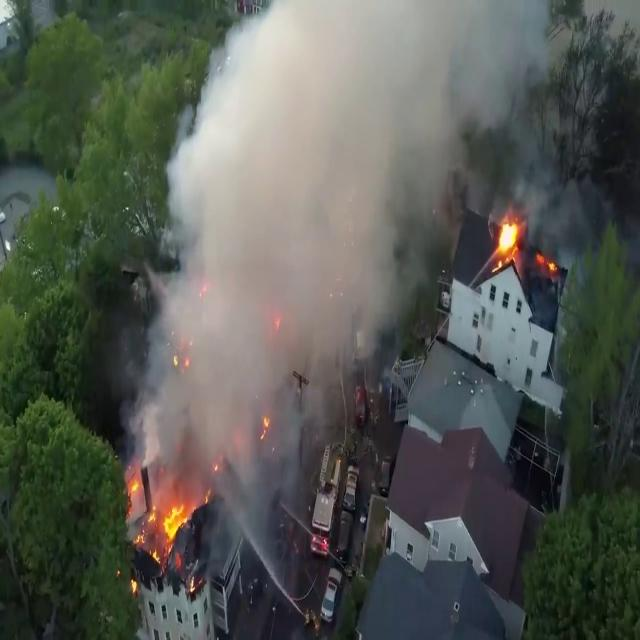Fire: (143, 487, 197, 566), (489, 206, 529, 267)
Smoke: (123, 0, 570, 468)
